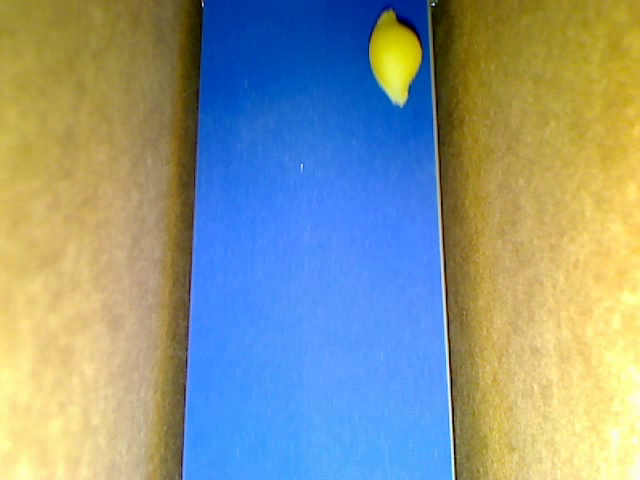shell: (369, 10, 423, 107)
